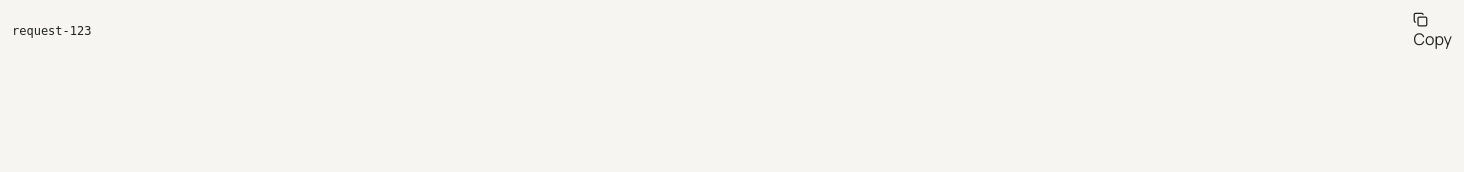
Test case: prevents duplicate clipboard requests while the browser is responding
Later steps or results of the test are not shown.
Double-click the button with aria-label "Copy request reference" at [1433, 32], box [1414,12,1452,51]
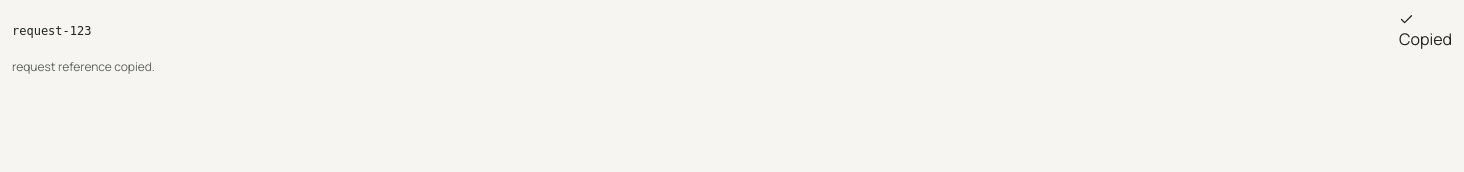
expect the button with aria-label "Copy request reference" is enabled: met, box [1399,12,1452,51]
expect the message reads "request reference copied.": met, box [12,58,155,75]
